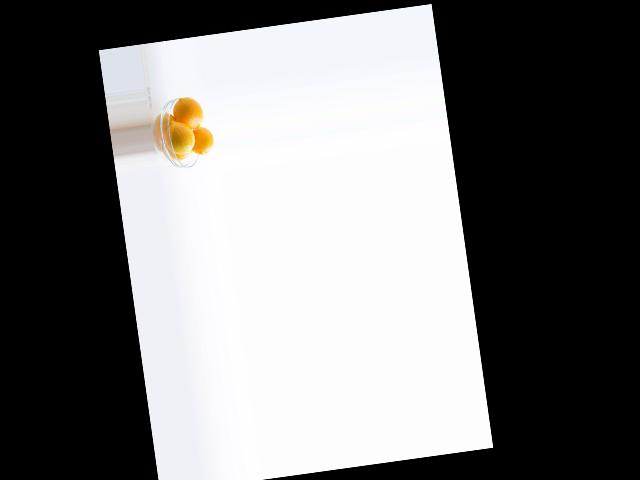lemon: (175, 93, 205, 132)
